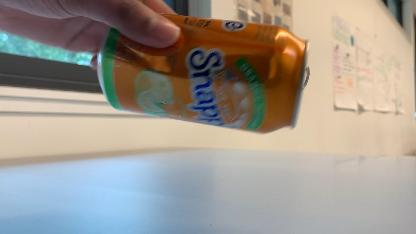Can: (98, 12, 310, 134)
